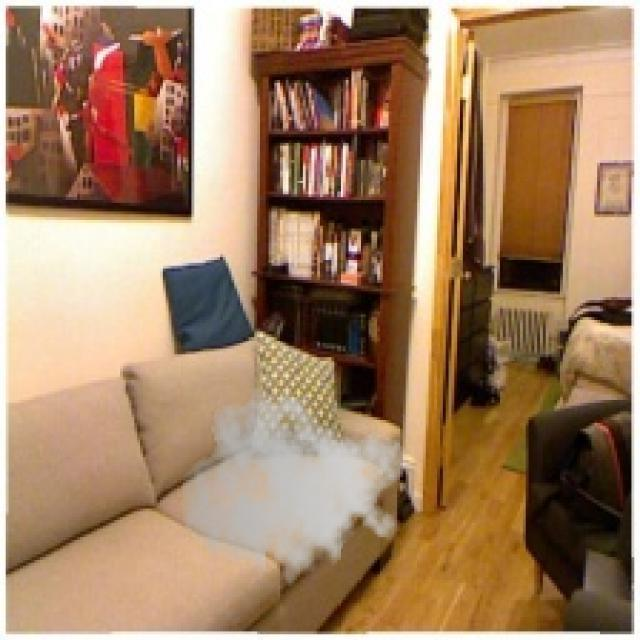Smoke: (180, 380, 409, 597)
